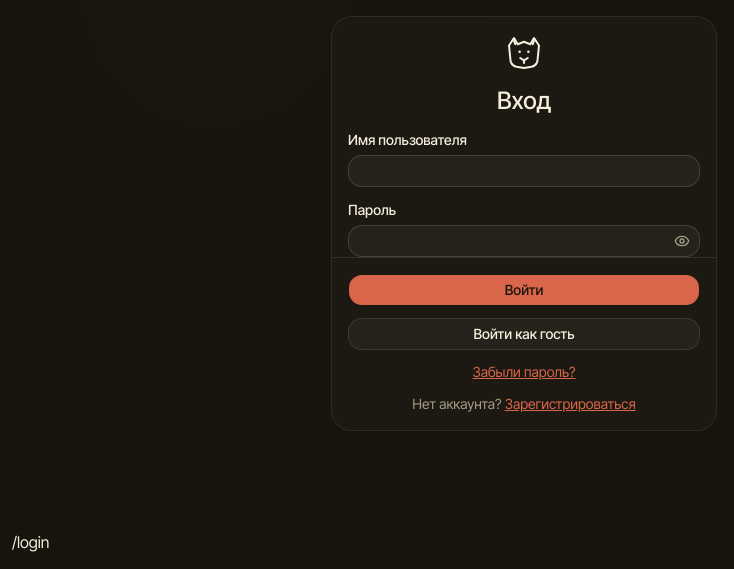
Test: LoginPage › кнопка гостя ведёт на /recipes без запроса
Click the button "Войти как гость". click: (524, 334)
box: top-left (348, 318), bottom-right (700, 350)
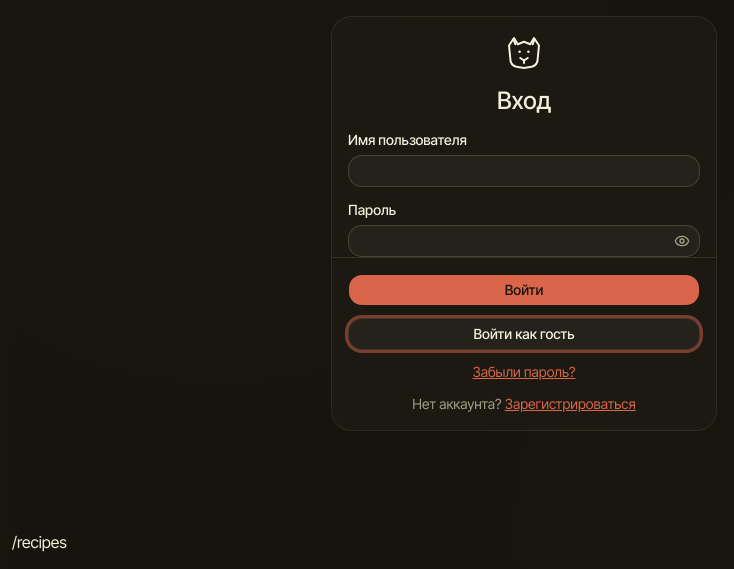
Result: the text with test id "location" reads "/recipes" at top-left (12, 532), bottom-right (67, 552)
